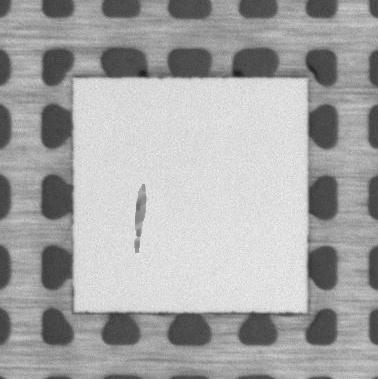DIE_INK: (126, 182, 148, 255)
